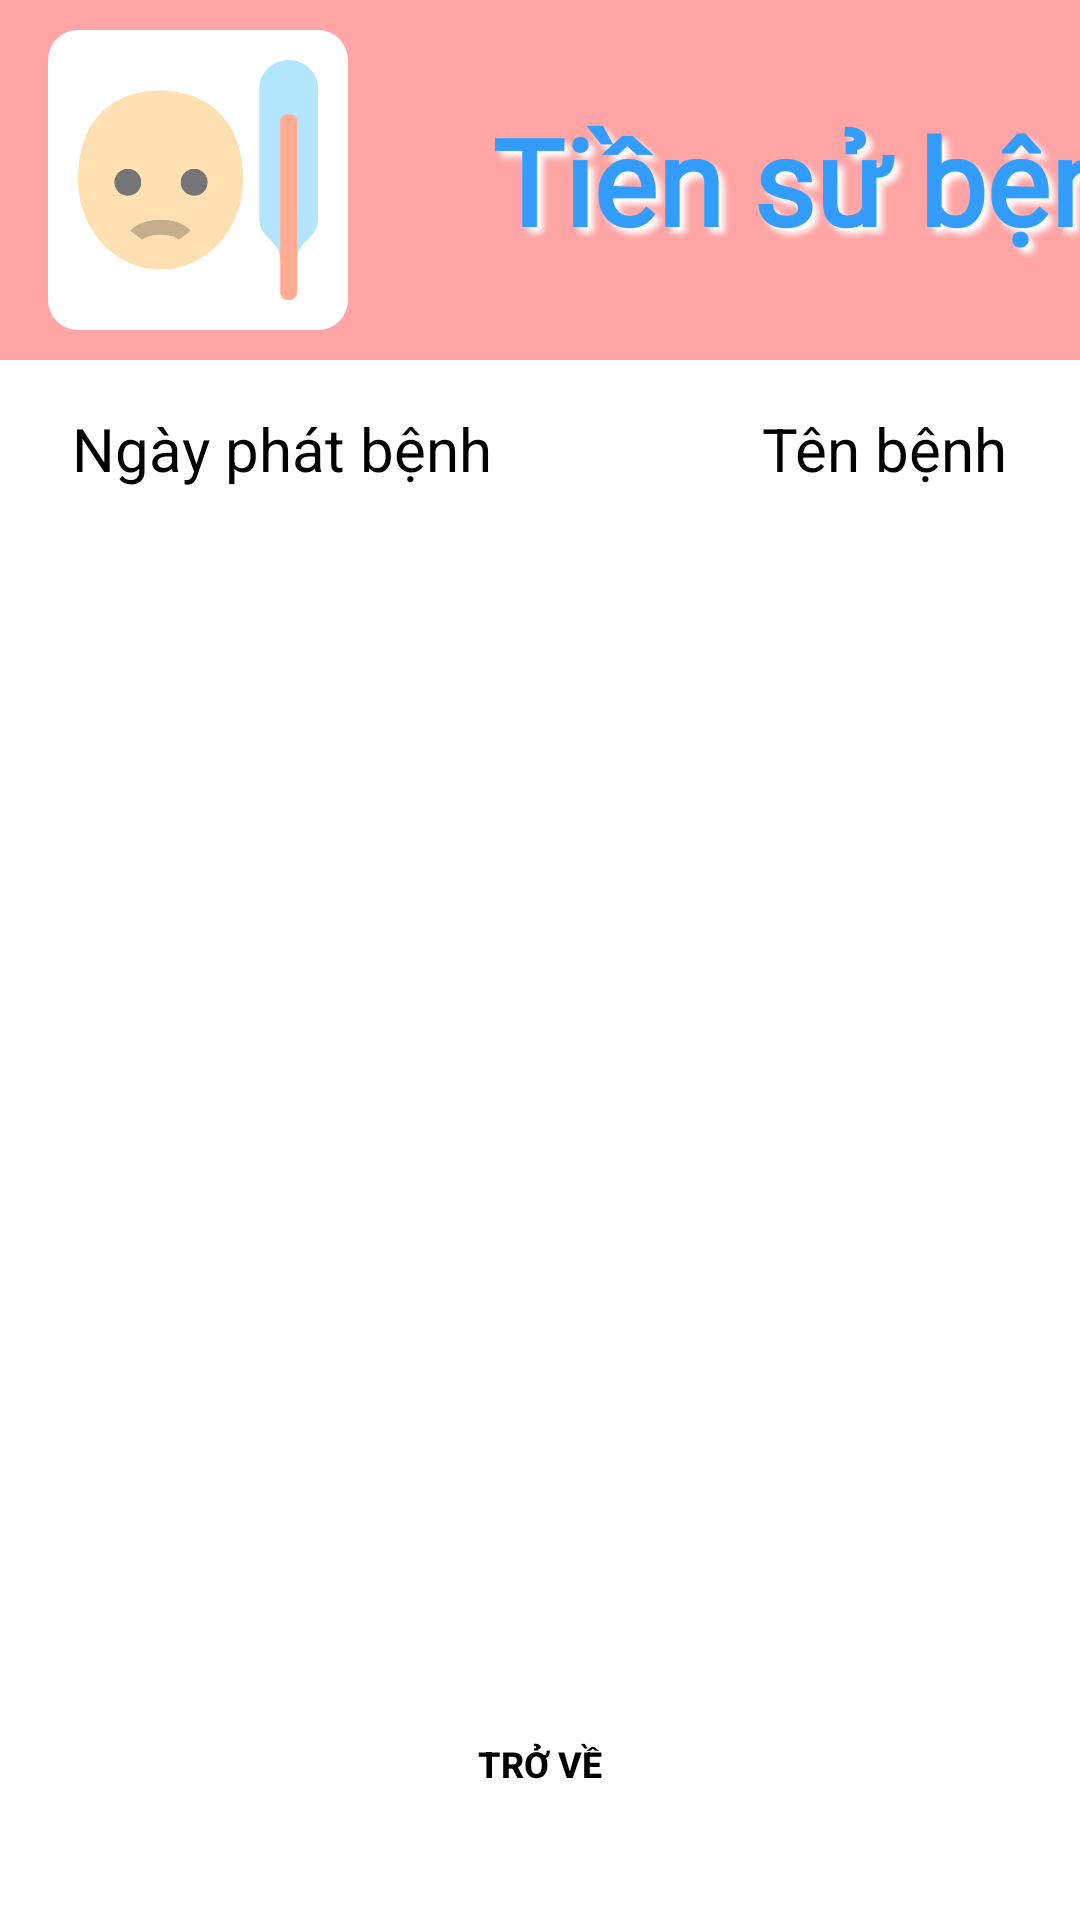

Icon bounding boxes for this 1080x1920 phone screenshot, format rect(x1, y1, x2, y2):
babymedicalhistory: rect(78, 60, 318, 300)
